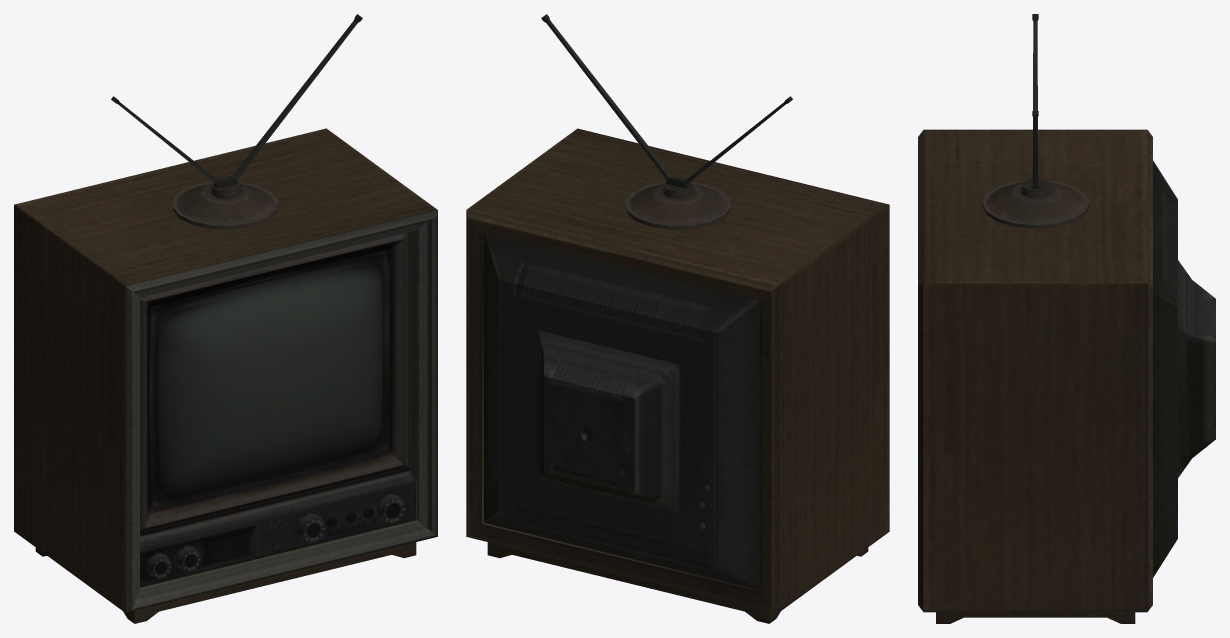
3 renders of one model, left to right at view 1: azimuth 30°, elevation 25°; view 2: azimuth 150°, elevation 25°; view 3: azimuth 270°, elevation 25°, orthographic.
Visible parts, largest first — view 1: tv_mp_1_1; view 2: tv_mp_1_1; view 3: tv_mp_1_1.
Boxes of the visible parts, box(x1,y1,x2,y2) form: tv_mp_1_1: box(14, 14, 437, 623); tv_mp_1_1: box(466, 14, 889, 623); tv_mp_1_1: box(918, 14, 1215, 623).
Bounding box in the file's own units: 0.51 × 0.7893 × 0.4183.
